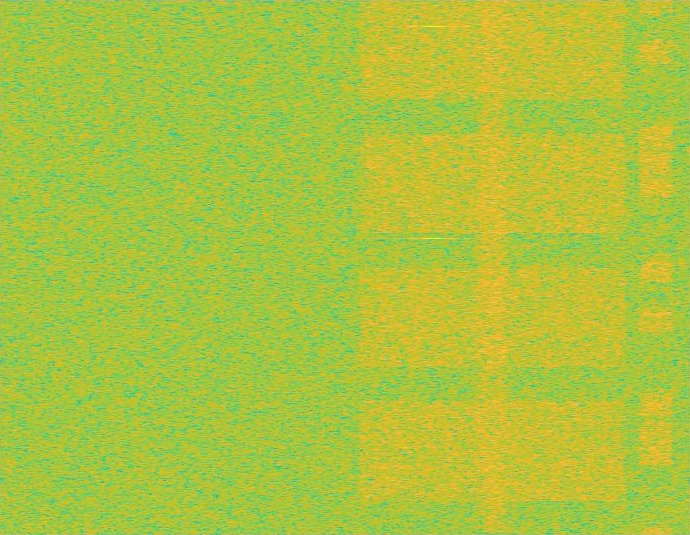5G: (355, 0, 631, 534)
DSSS: (474, 0, 511, 534)
LTE: (639, 0, 673, 534)
Radar: (427, 0, 441, 534)
